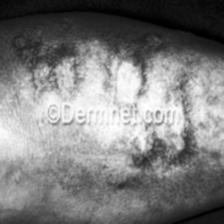Non-Cancerous Skin Condition: (0, 28, 152, 103), (117, 126, 224, 194)
